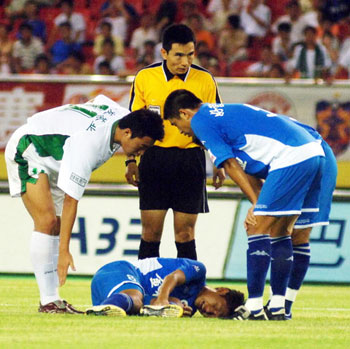10+: (1, 1, 350, 323)
down: (89, 256, 246, 323)
